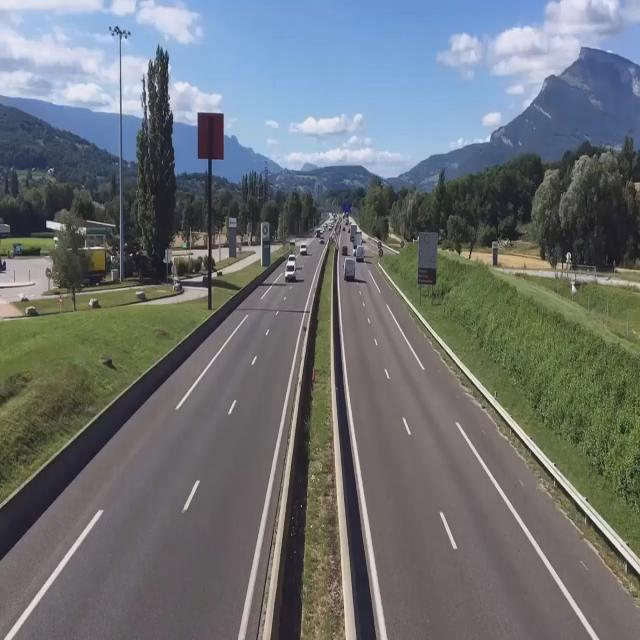car: (284, 259, 298, 282)
